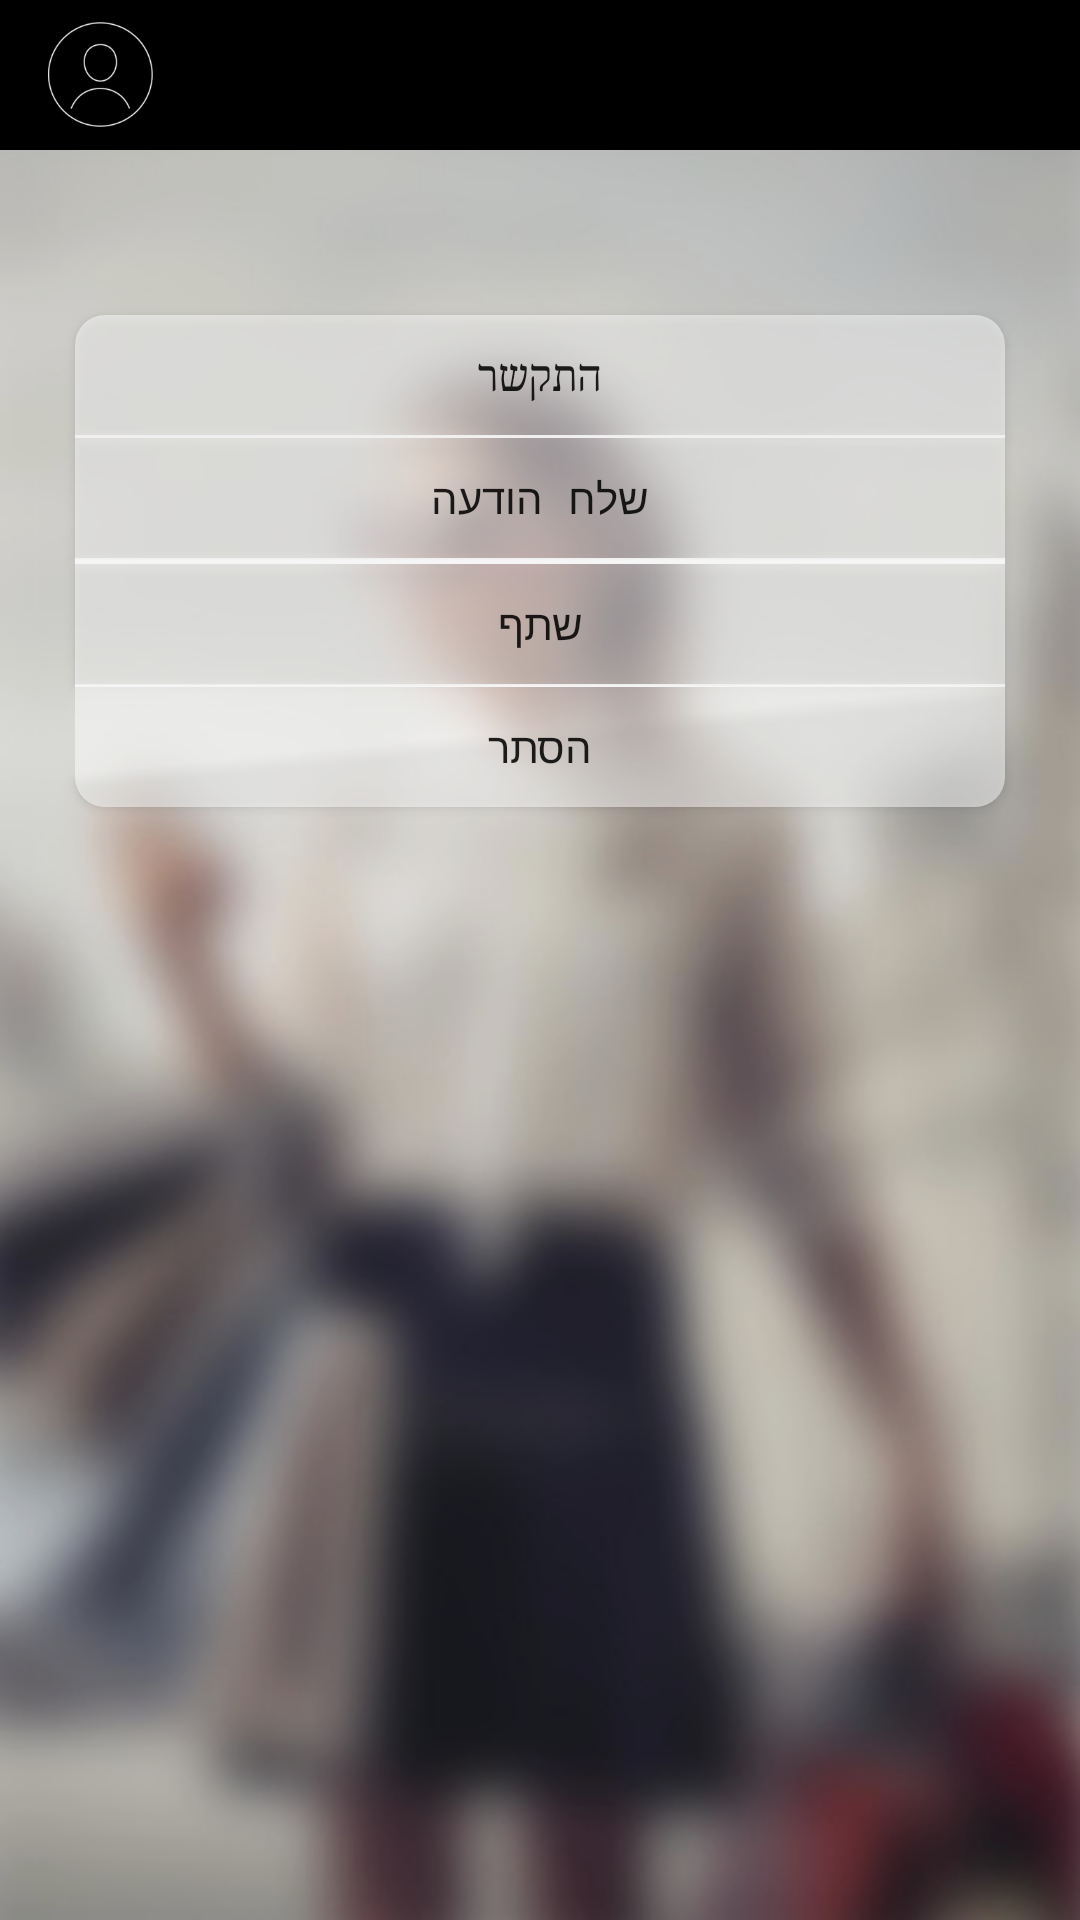

Icon click points for this 1080px x 1920px phone screenshot, format (x=x, y=y):
profile picture: (x=100, y=74)
